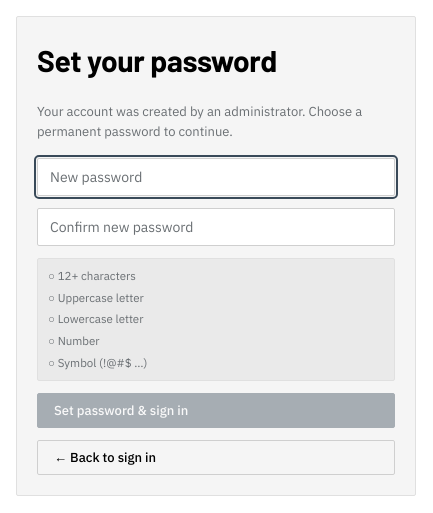
it: Login › lets the set-password view go back to sign in
The width and height of the screenshot is (433, 513).
Step 1. Click the button "← Back to sign in" → (105, 457), box top-left (37, 440), bottom-right (395, 475)
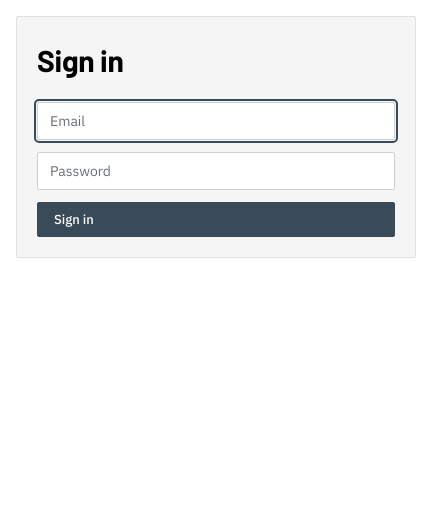
Now the password field labelled "Password" is shown, box top-left (37, 152), bottom-right (395, 190)
